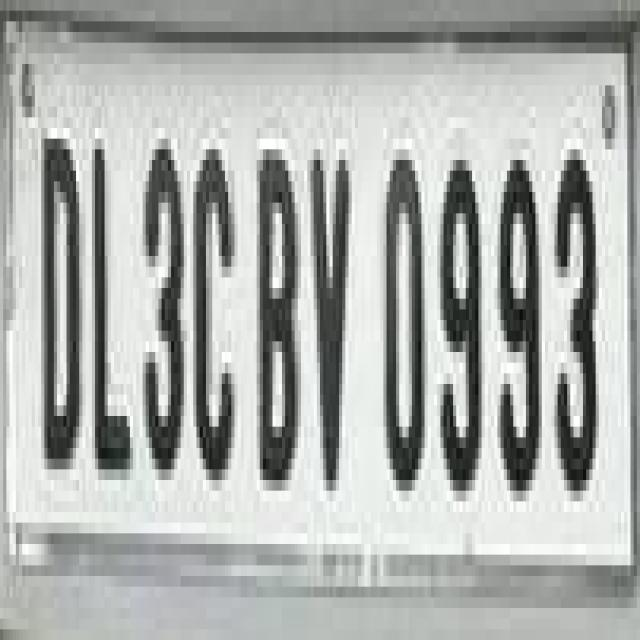license_plate: (19, 11, 640, 597)
